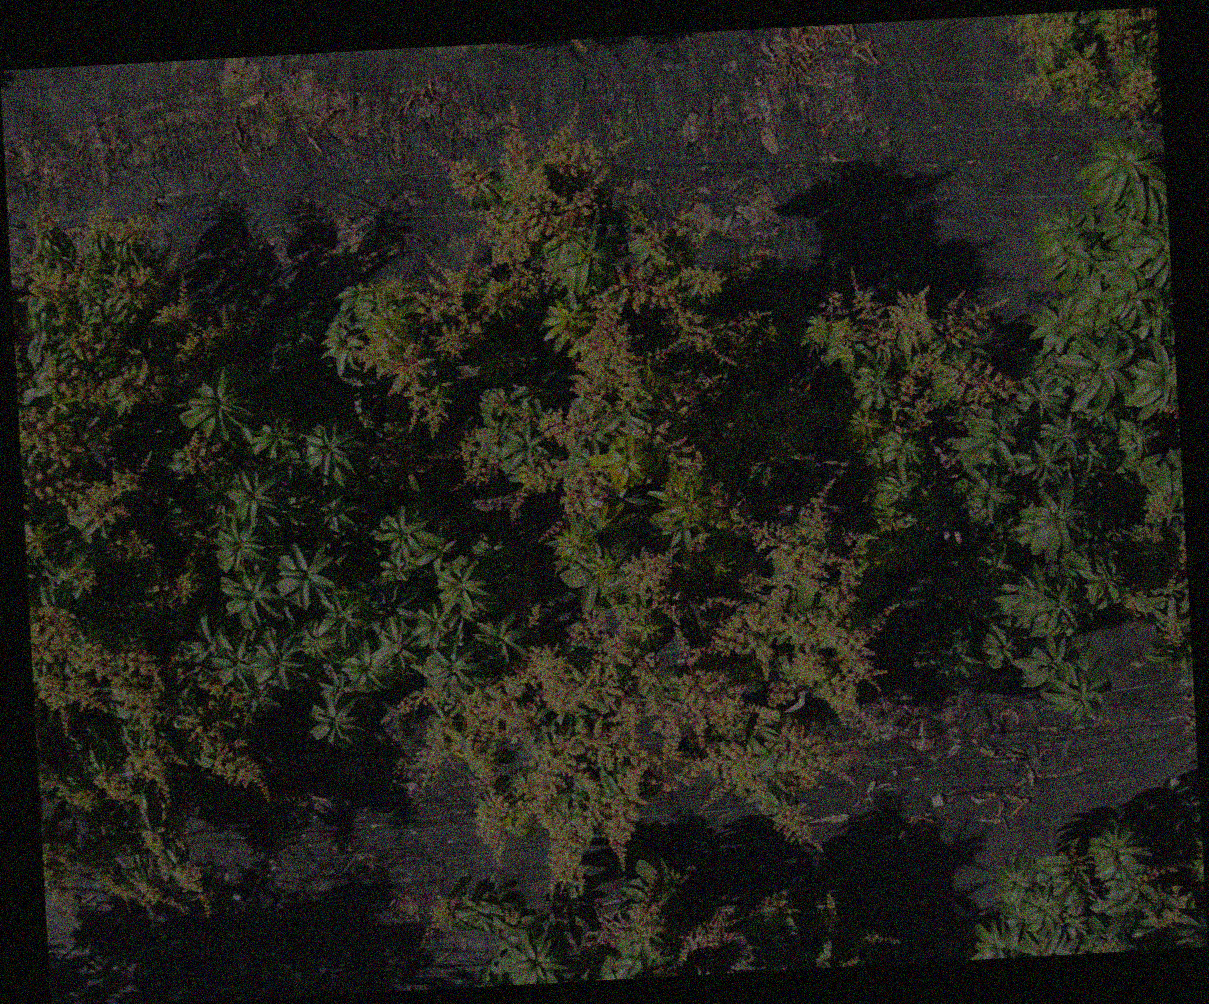flowers: (423, 514, 878, 882), (324, 125, 631, 429), (17, 209, 250, 594), (37, 601, 262, 906), (536, 259, 809, 486), (806, 285, 1012, 447), (1003, 11, 1159, 130), (580, 859, 683, 949), (431, 434, 498, 487), (677, 909, 738, 963), (171, 433, 232, 476), (559, 468, 610, 519), (1134, 492, 1172, 544), (166, 560, 201, 608), (514, 459, 558, 494)
